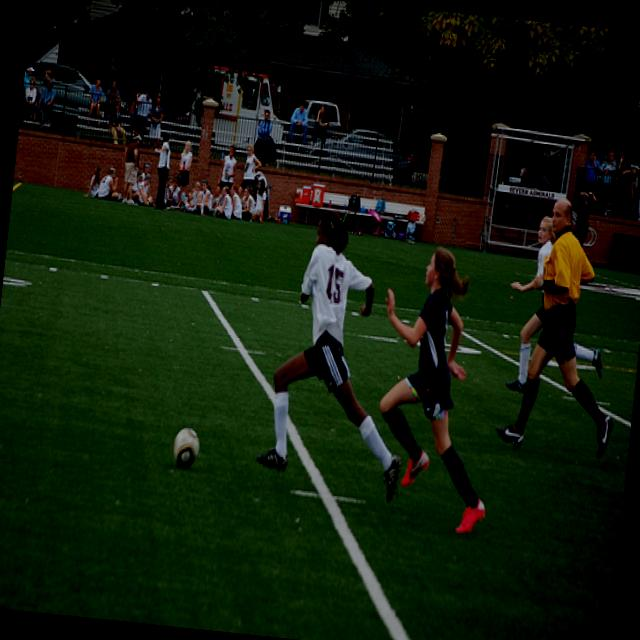Vehicle: (184, 64, 288, 160), (304, 122, 418, 186), (504, 142, 565, 192), (23, 58, 91, 92), (520, 144, 564, 190), (299, 96, 344, 140), (300, 98, 344, 130)
